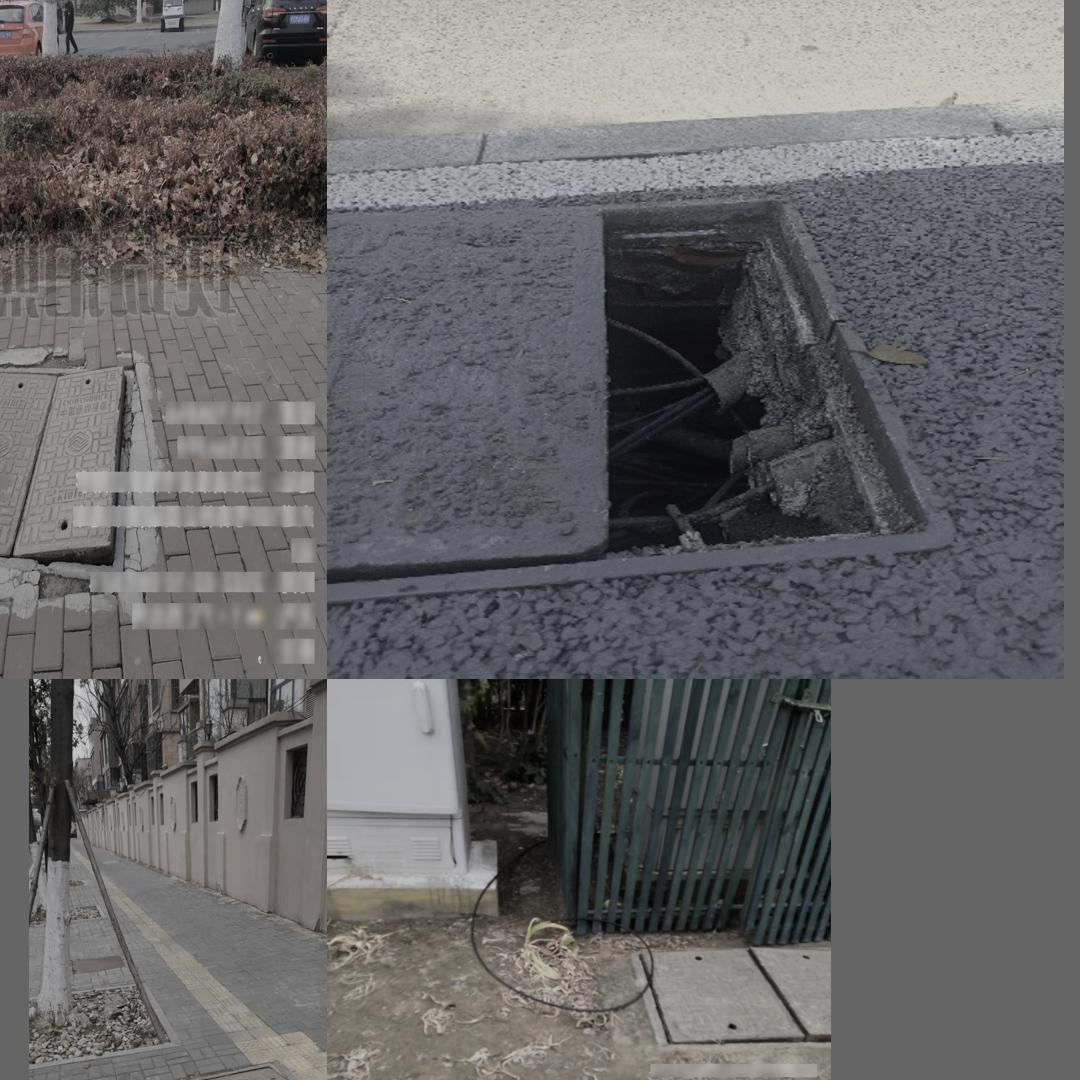uncovered: (330, 193, 950, 603), (0, 358, 132, 579), (634, 947, 830, 1052), (175, 1062, 327, 1080)
